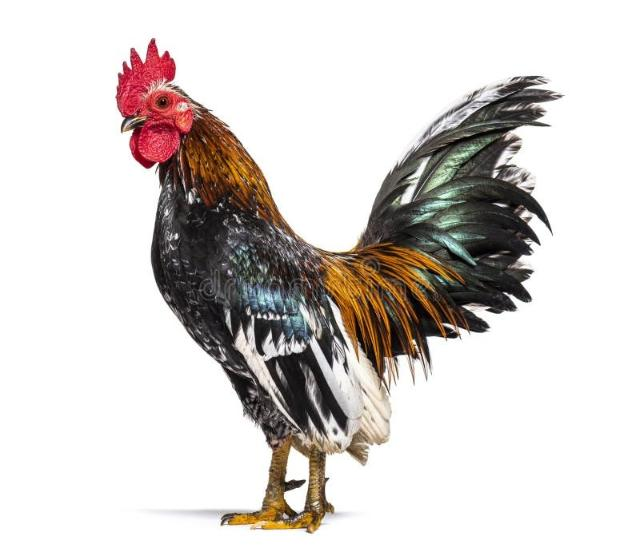Chicken: (115, 36, 566, 533)
